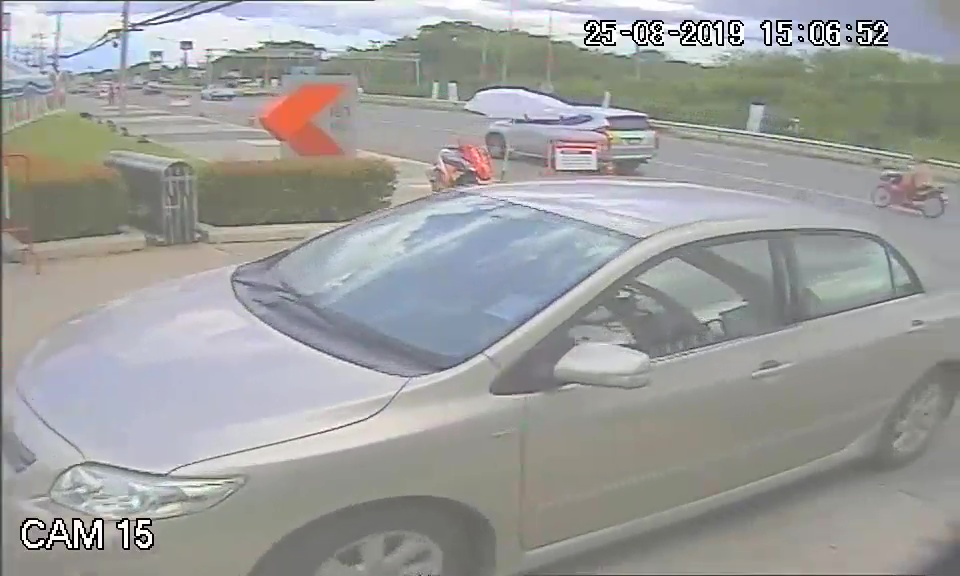sedan: (21, 186, 948, 576)
